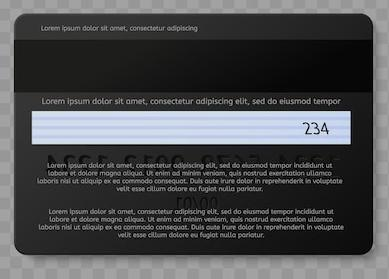payment_card: (15, 13, 373, 257)
